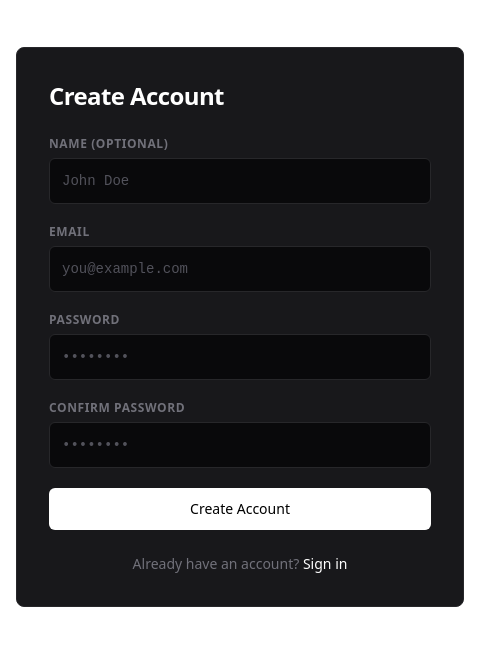
Test: RegisterPage › should show error when password is too short
Type "test@example.com" into the field labelled "Email" at (240, 269), box [49,246,431,292]
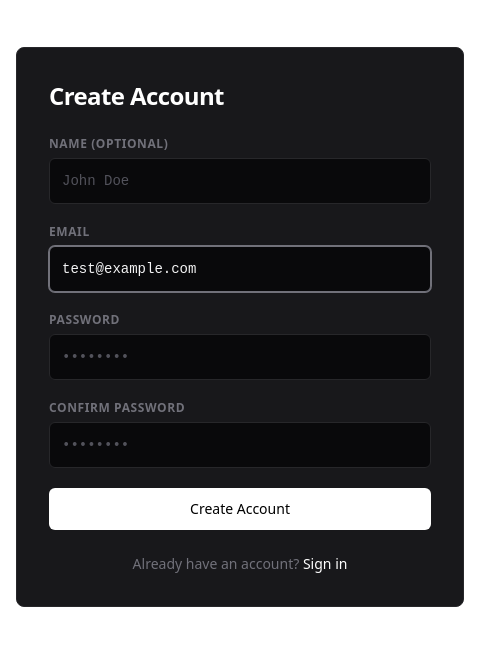
Type "123" into the password field labelled "Password" at (240, 357), box [49,334,431,380]
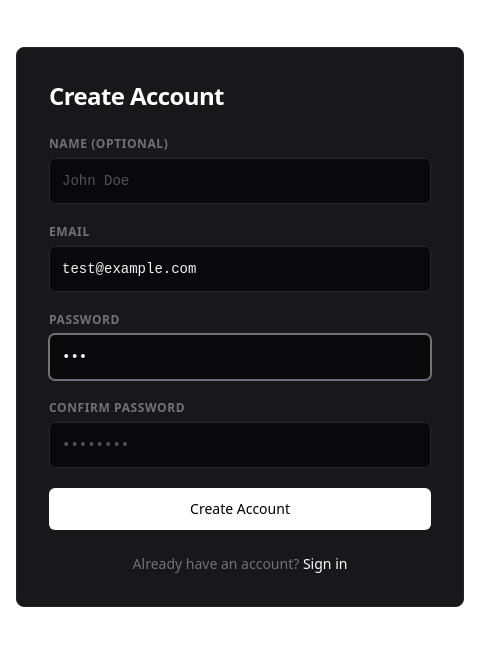
Type "123" into the password field labelled "Confirm Password" at (240, 445), box [49,422,431,468]
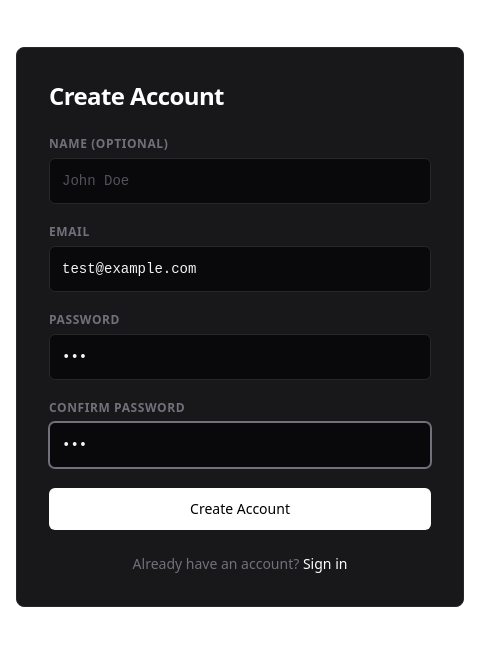
Click the button "Create Account" at (240, 509), box [49,488,431,530]
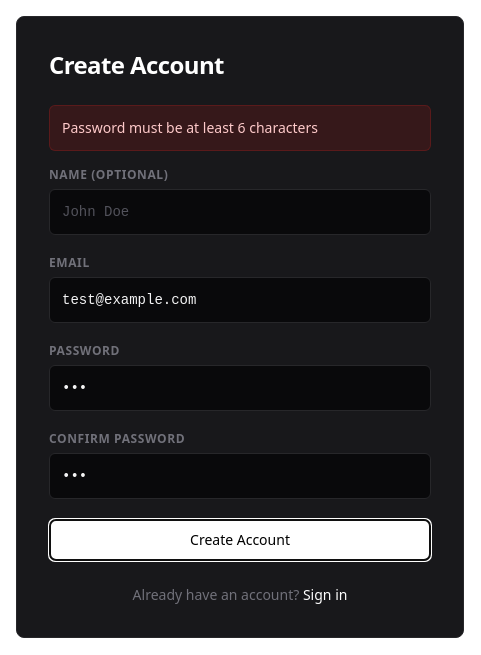
Expected: the text "Password must be at least 6 characters" is shown, [49,105,431,151]
